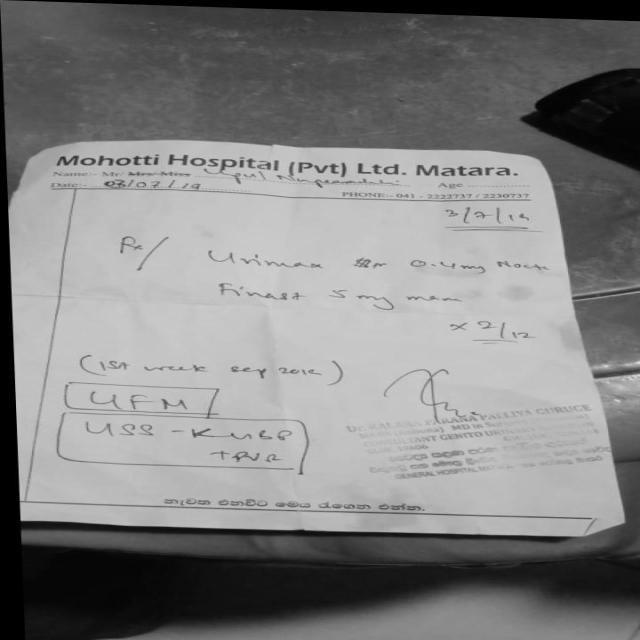Prescription: (216, 280, 542, 338), (202, 243, 553, 275)
